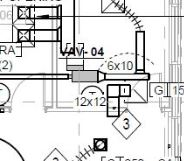VAV: (64, 63, 108, 87)
